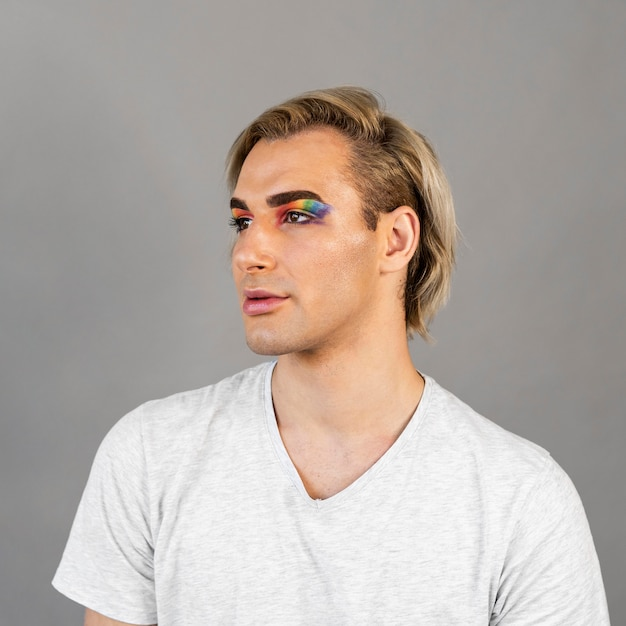teen: (208, 81, 439, 383)
